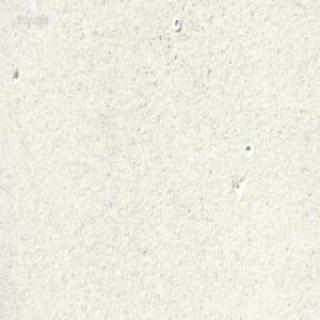Washertrack_idkeyframe: (172, 15, 180, 30)
